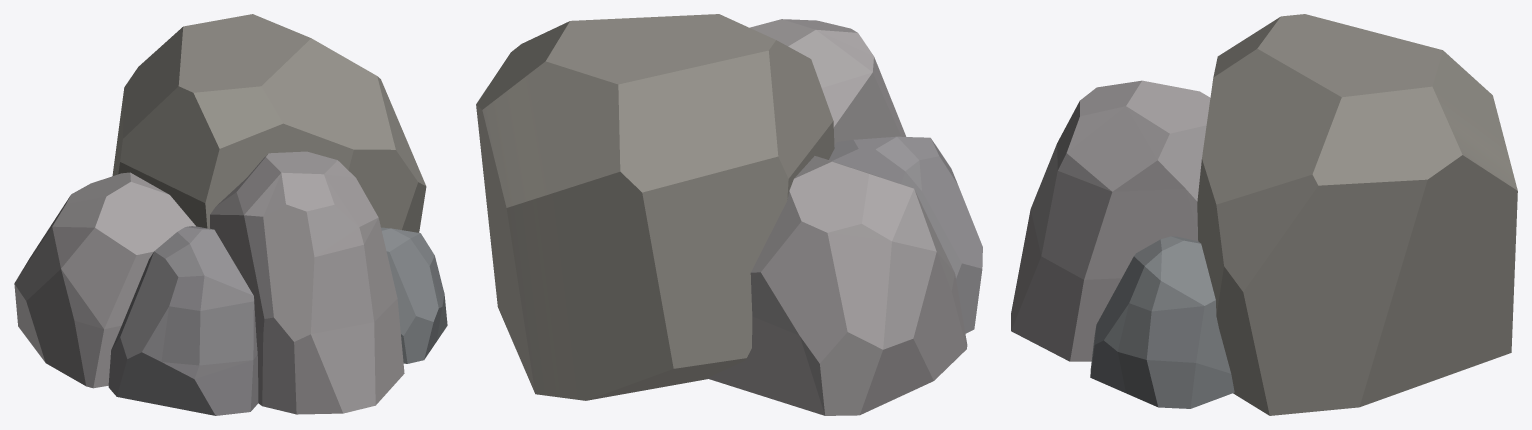
The model's file is Rocks_Round_l_02.fbx.
The picture shows the model from 3 angles, left to right: view 1: azimuth 30°, elevation 25°; view 2: azimuth 150°, elevation 25°; view 3: azimuth 270°, elevation 25°; orthographic projection. The views are drawn at different scales.
Visible parts, largest first — view 1: Rocks_Round_l_02; view 2: Rocks_Round_l_02; view 3: Rocks_Round_l_02.
Boxes of the visible parts, x1,y1,x2,y2 form: Rocks_Round_l_02: (14,14,447,415); Rocks_Round_l_02: (476,14,982,415); Rocks_Round_l_02: (1011,14,1517,415).
Size of the model in its own units: 306 by 200 by 327.
